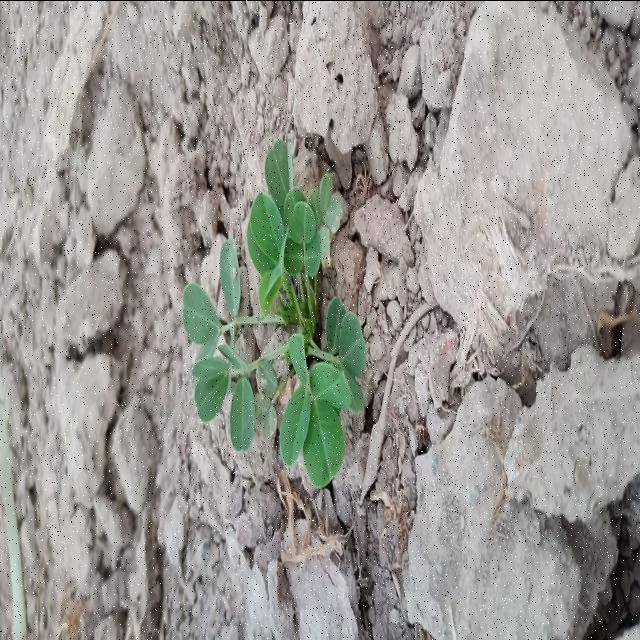plant: (182, 141, 366, 486)
